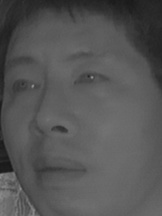eye: (71, 68, 115, 90), (8, 75, 44, 97)
mouth: (30, 152, 92, 187)
